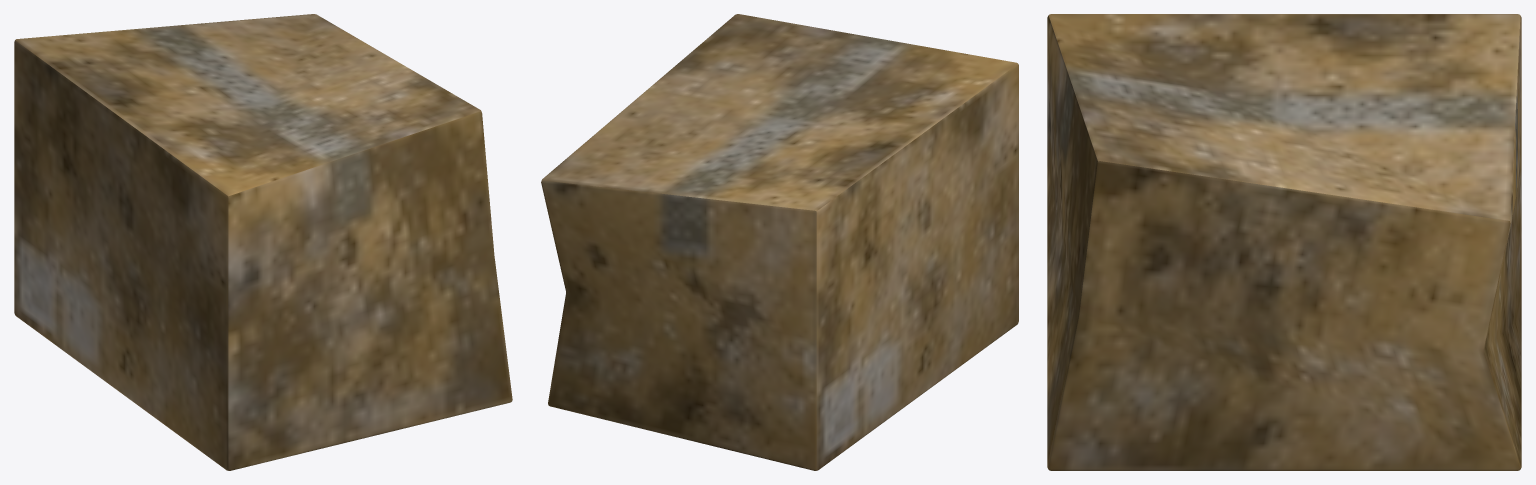
File: caja_07.fbx
3 views of the same model, side by side, from view 1: azimuth 30°, elevation 25°; view 2: azimuth 150°, elevation 25°; view 3: azimuth 270°, elevation 25° (orthographic). The views are drawn at different scales.
Parts seen in each view (by area): view 1: Caja_07; view 2: Caja_07; view 3: Caja_07.
Boxes of the visible parts, x1,y1,x2,y2 form: Caja_07: (14,14,512,470); Caja_07: (541,14,1018,470); Caja_07: (1047,14,1521,470).
Bounding box in the file's own units: 67.2 × 60.03 × 83.92.
1 material, 1 textured.
